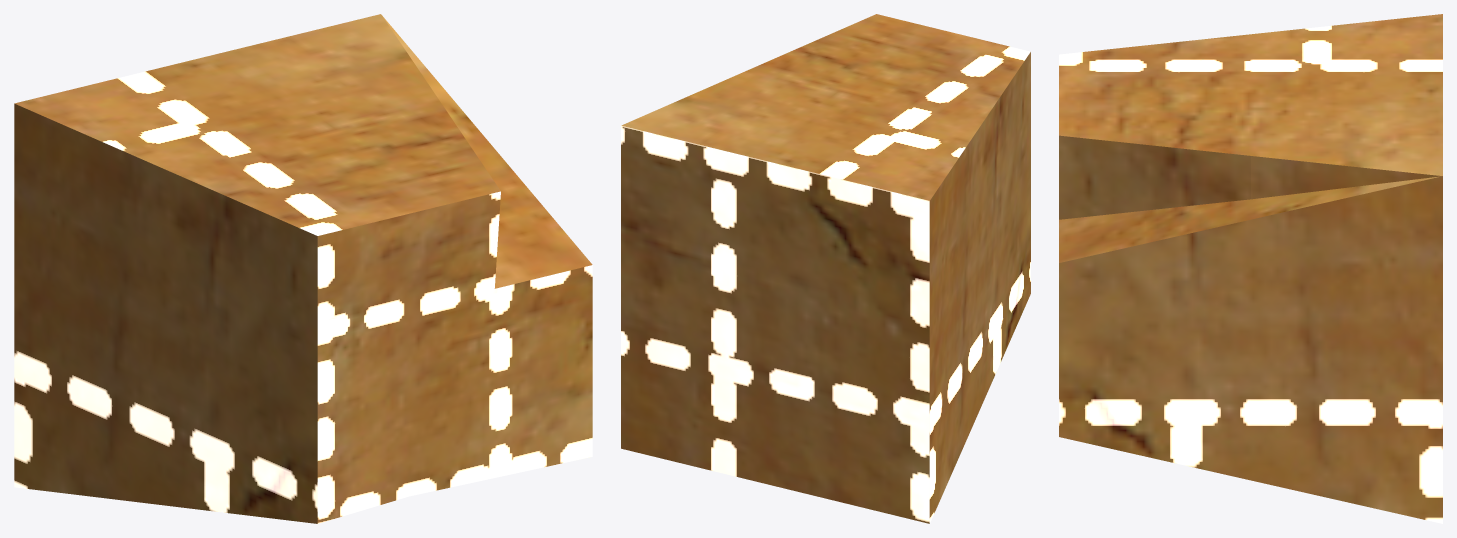
File: block-ramp-corner-flat.glb
3 views of the same model, side by side, from view 1: azimuth 30°, elevation 25°; view 2: azimuth 150°, elevation 25°; view 3: azimuth 270°, elevation 25° (orthographic). The views are drawn at different scales.
Parts seen in each view (by area): view 1: Block-Ramp-Corner-Nw-Flat*; view 2: Block-Ramp-Corner-Nw-Flat*; view 3: Block-Ramp-Corner-Nw-Flat*.
Part boxes in pixels (bbox=[...]): Block-Ramp-Corner-Nw-Flat*: bbox=[14, 14, 592, 523]; Block-Ramp-Corner-Nw-Flat*: bbox=[621, 14, 1030, 523]; Block-Ramp-Corner-Nw-Flat*: bbox=[1059, 14, 1442, 523].
Bounding box in the file's own units: 2 × 2 × 2.
1 material, 1 textured.
